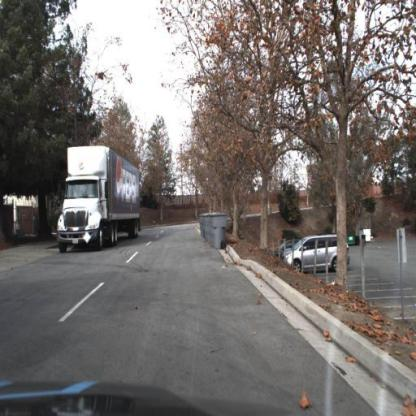car: (282, 233, 352, 274), (272, 236, 303, 263)
truck: (57, 145, 141, 257)
